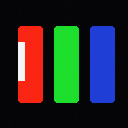4 line_v: (18, 42, 24, 80)
